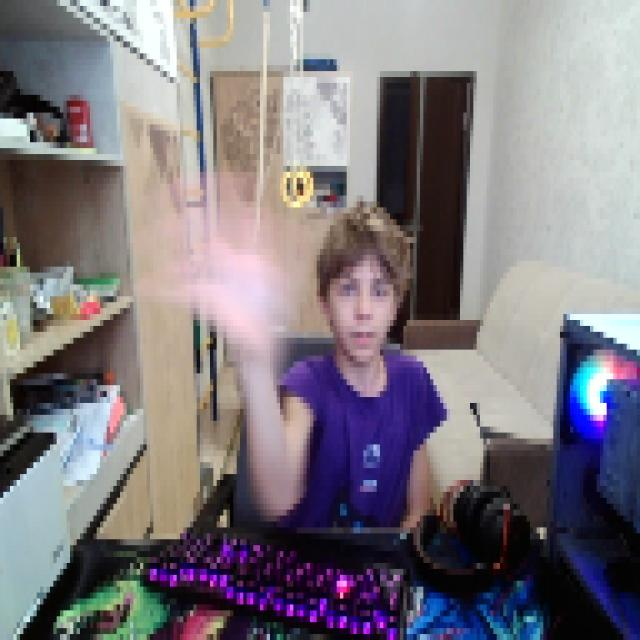hand: (136, 160, 296, 338)
